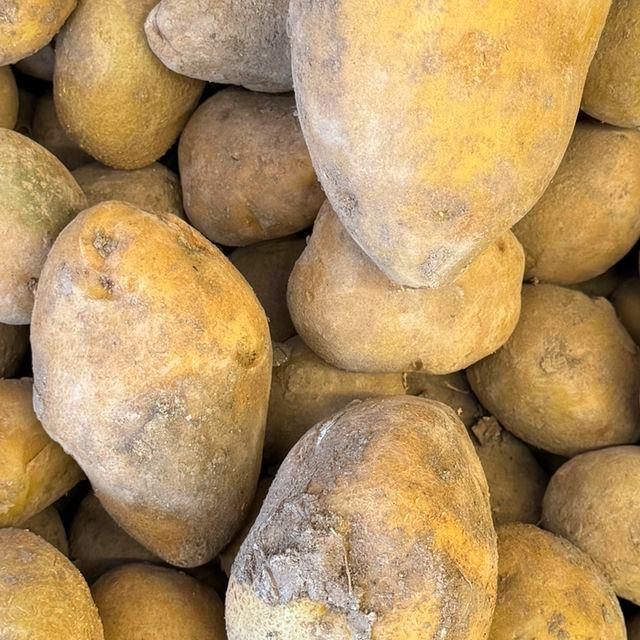potato: (275, 0, 640, 286), (201, 365, 538, 640), (0, 506, 125, 640)
